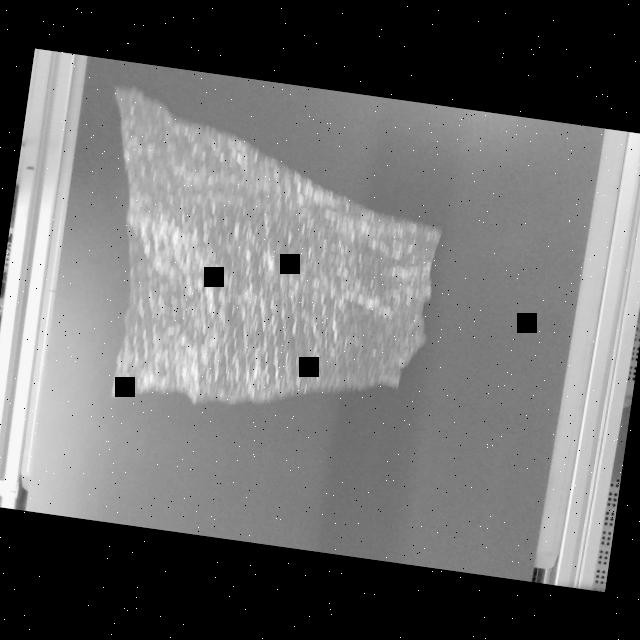scrap_plastic: (70, 82, 458, 437)
